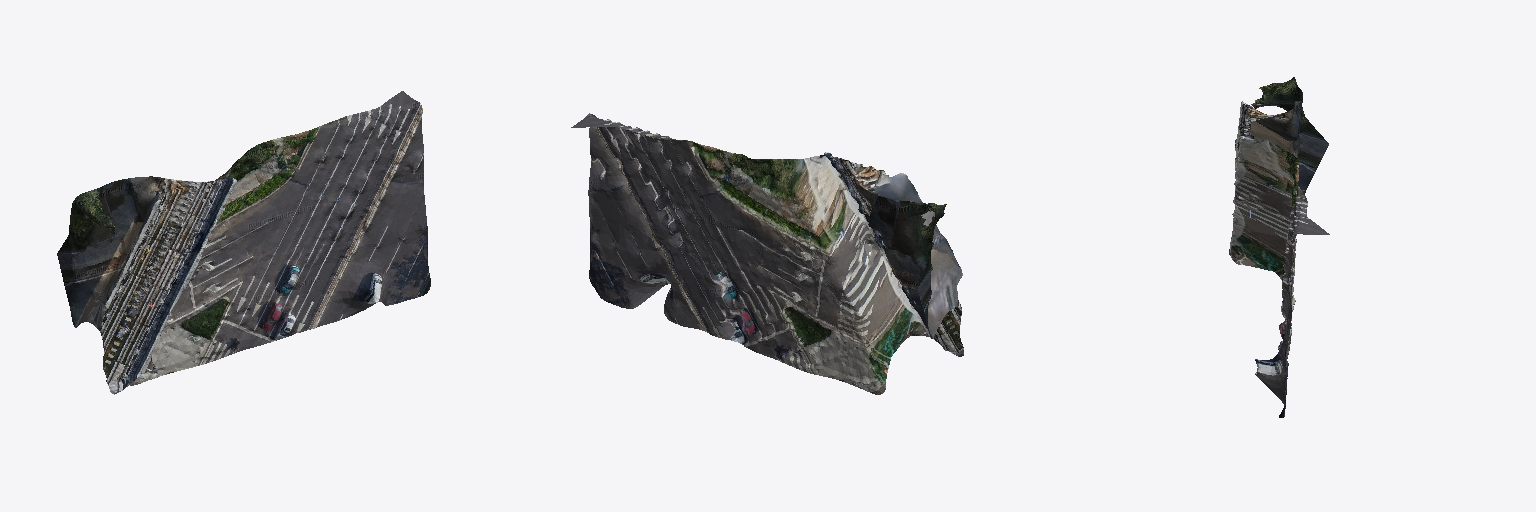
3 views of the same model, side by side, from view 1: azimuth 30°, elevation 25°; view 2: azimuth 150°, elevation 25°; view 3: azimuth 270°, elevation 25° (orthographic).
Size of the model in its own units: 60.75 by 34.95 by 15.24.
2 materials, 1 textured.